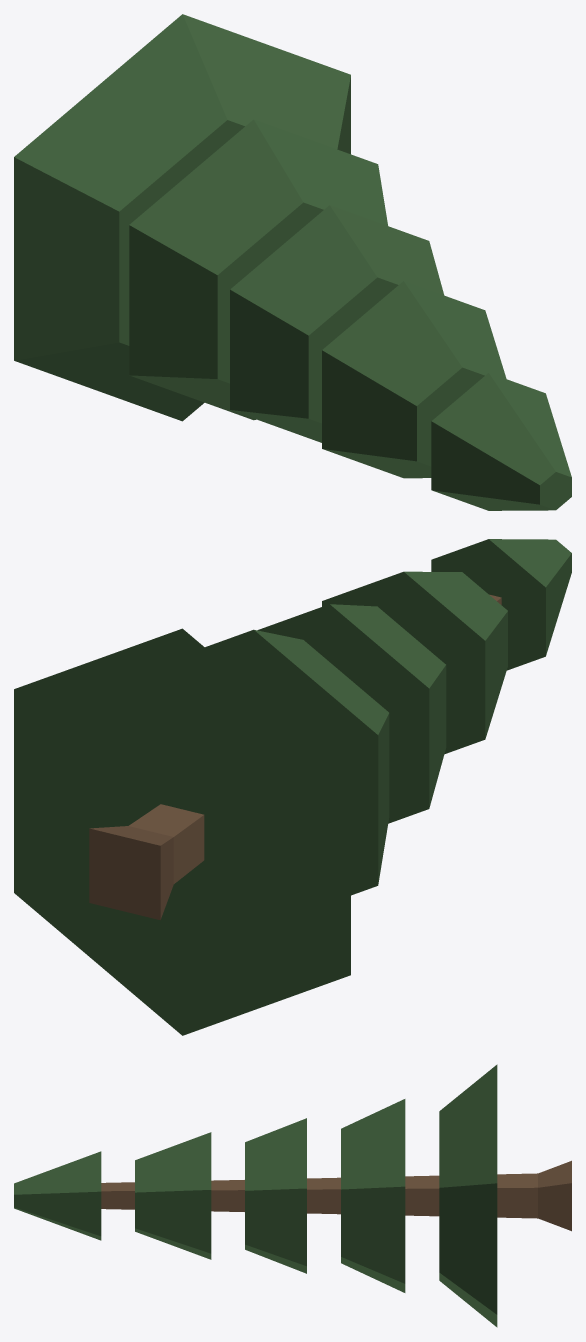
File: tree-model-pine-round-36-ft.obj
3 views of the same model, one above another, from view 1: azimuth 30°, elevation 25°; view 2: azimuth 150°, elevation 25°; view 3: azimuth 270°, elevation 25° (orthographic). The views are drawn at different scales.
Visible parts, largest first — view 1: tree-model-pine-round-36-ft; view 2: tree-model-pine-round-36-ft; view 3: tree-model-pine-round-36-ft.
Part boxes in pixels (<box>): tree-model-pine-round-36-ft: <box>14,14,571,510</box>; tree-model-pine-round-36-ft: <box>14,539,571,1035</box>; tree-model-pine-round-36-ft: <box>14,1064,571,1327</box>.
Size of the model in its own units: 195 by 225 by 432.
